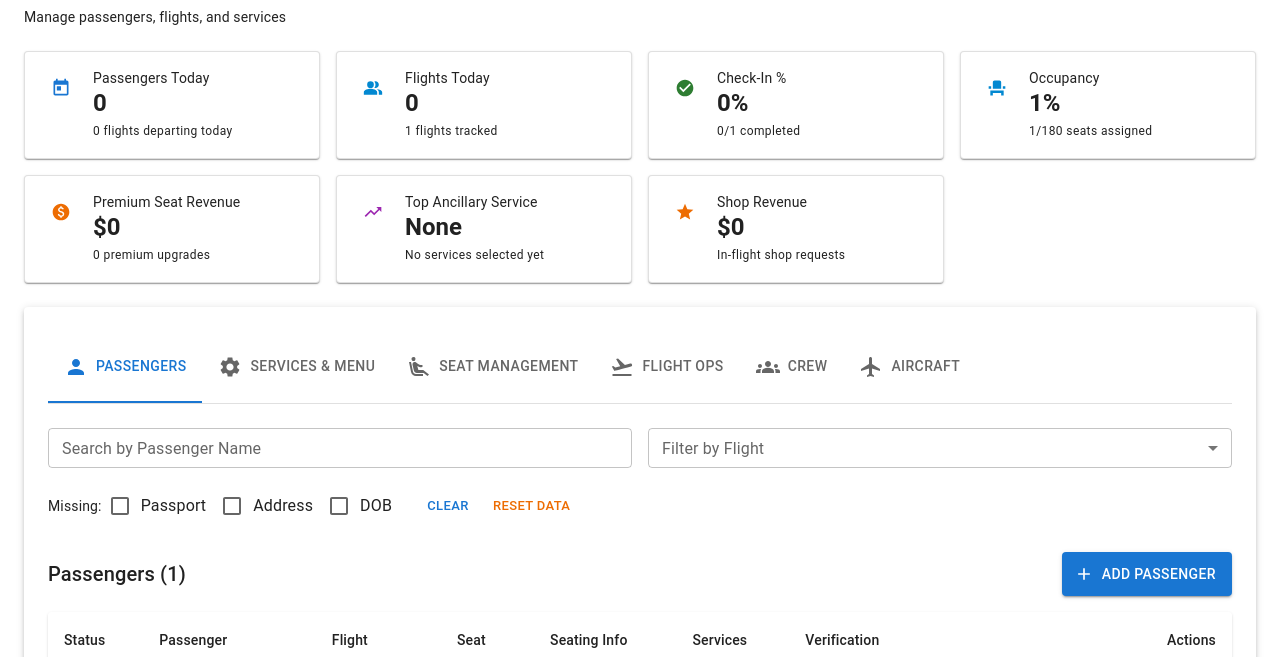
Test: AdminDashboard › Seat Management Tab › should have action buttons
The width and height of the screenshot is (1280, 657).
Click the tab "Seat Management": coordinates (493, 367) [391,331,594,403]
(page scrolled)
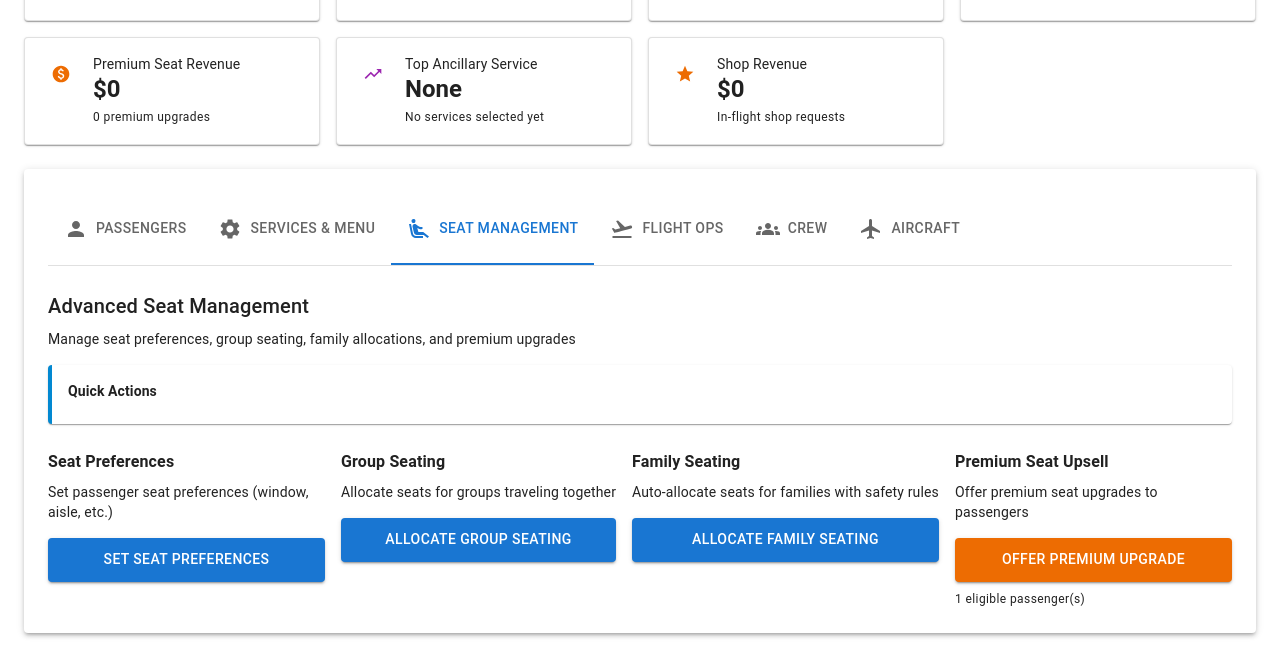
Expected: the button "Set Seat Preferences" is shown, [48,538,325,582]
Expected: the button "Offer Premium Upgrade" is shown, [955,538,1232,582]
